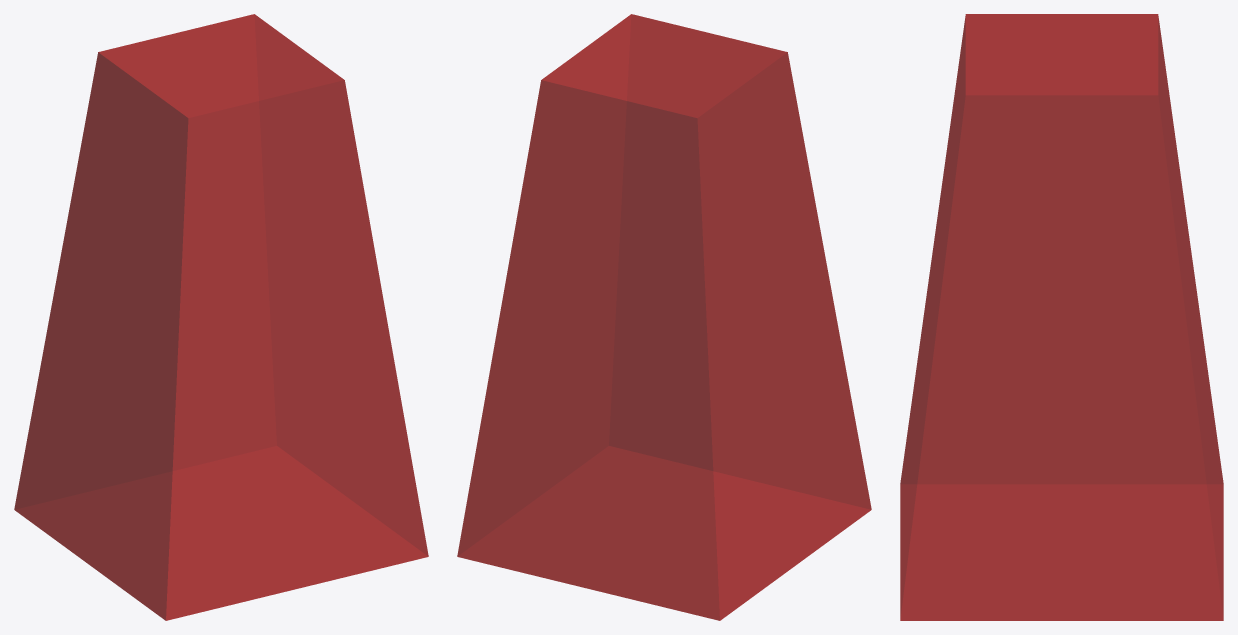
Rendered from SM_Prop_Stonewall_Pillar_01_Collision.fbx.
3 views of the same model, side by side, from view 1: azimuth 30°, elevation 25°; view 2: azimuth 150°, elevation 25°; view 3: azimuth 270°, elevation 25° (orthographic). The views are drawn at different scales.
Visible parts, largest first — view 1: SM_Prop_Stonewall_Pillar_01_Collision; view 2: SM_Prop_Stonewall_Pillar_01_Collision; view 3: SM_Prop_Stonewall_Pillar_01_Collision.
Part boxes in pixels (<box>): SM_Prop_Stonewall_Pillar_01_Collision: <box>14,14,428,620</box>; SM_Prop_Stonewall_Pillar_01_Collision: <box>457,14,871,620</box>; SM_Prop_Stonewall_Pillar_01_Collision: <box>900,14,1223,620</box>.
Size of the model in its own units: 72.58 by 123 by 72.58.
